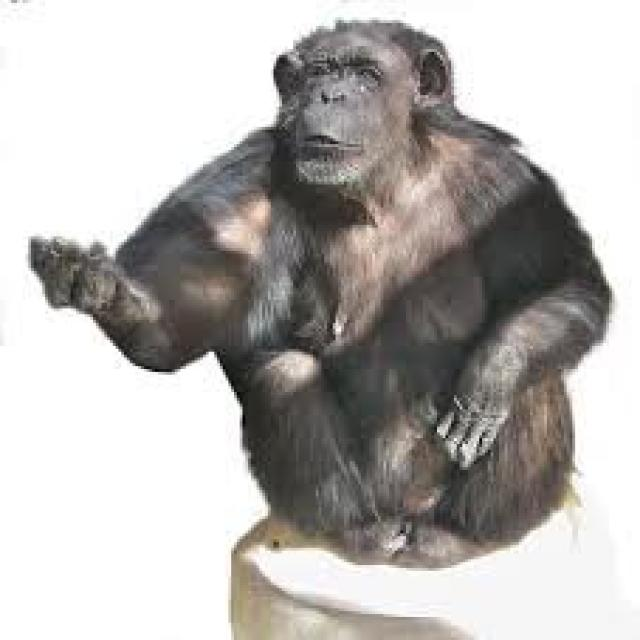Chimpanzee: (27, 15, 619, 530)
